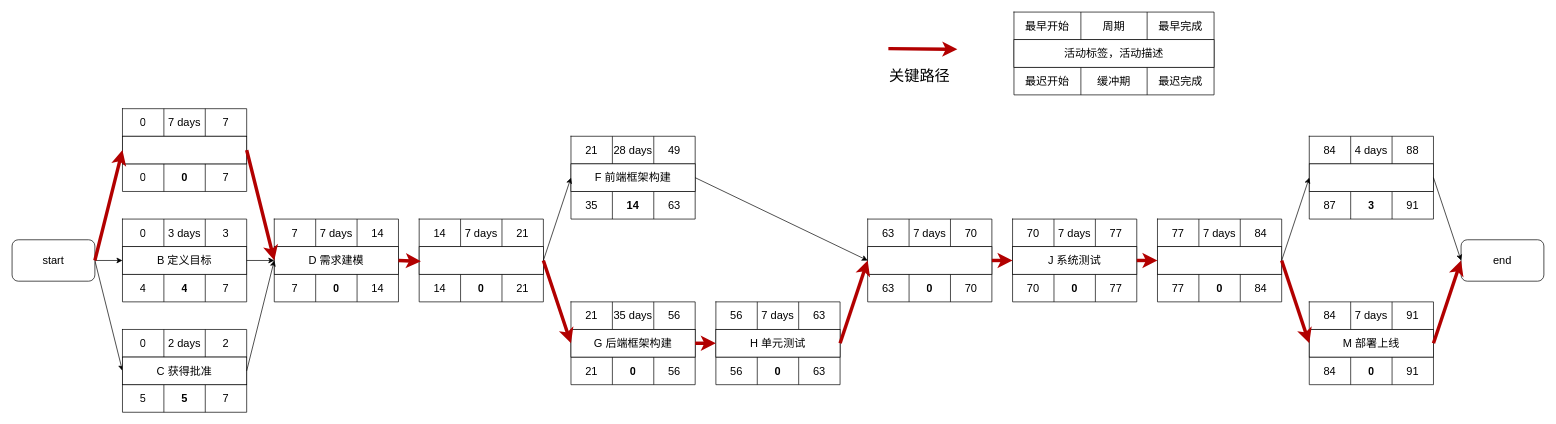
Image size: 1556x424. Some labels were removed from this diagram. The box of each missing label's shape, as (x1, y1, x2, y2) in pixels:
A 需求说明: (122, 136, 247, 164)
E 项目设计: (418, 246, 543, 274)
I 集成测试: (867, 246, 992, 274)
K 验收测试: (1157, 246, 1282, 274)
L 文档撰写: (1309, 163, 1433, 191)
